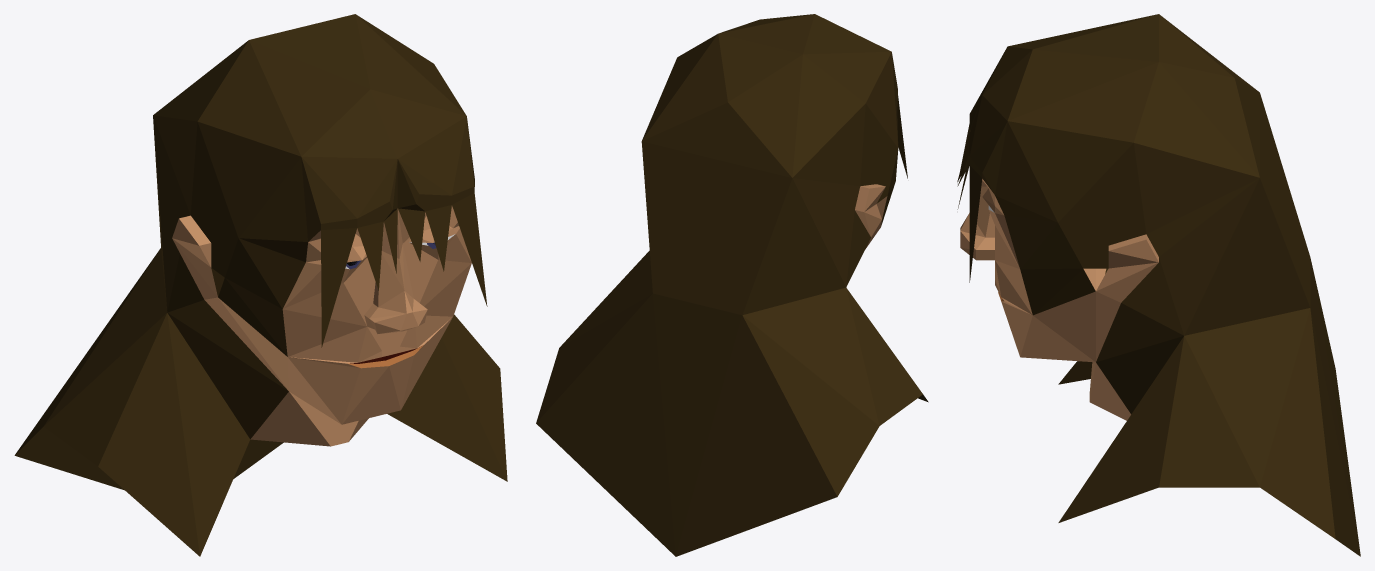
The model's file is model_52_idk_head.obj.
3 views of the same model, side by side, from view 1: azimuth 30°, elevation 25°; view 2: azimuth 150°, elevation 25°; view 3: azimuth 270°, elevation 25° (orthographic). The views are drawn at different scales.
Parts seen in each view (by area): view 1: 52; view 2: 52; view 3: 52.
Part boxes in pixels (x1,y1,x2,y2): 52: (14, 14, 507, 556); 52: (536, 14, 928, 556); 52: (957, 14, 1360, 556).
Bounding box in the file's own units: 136 × 182 × 128.
